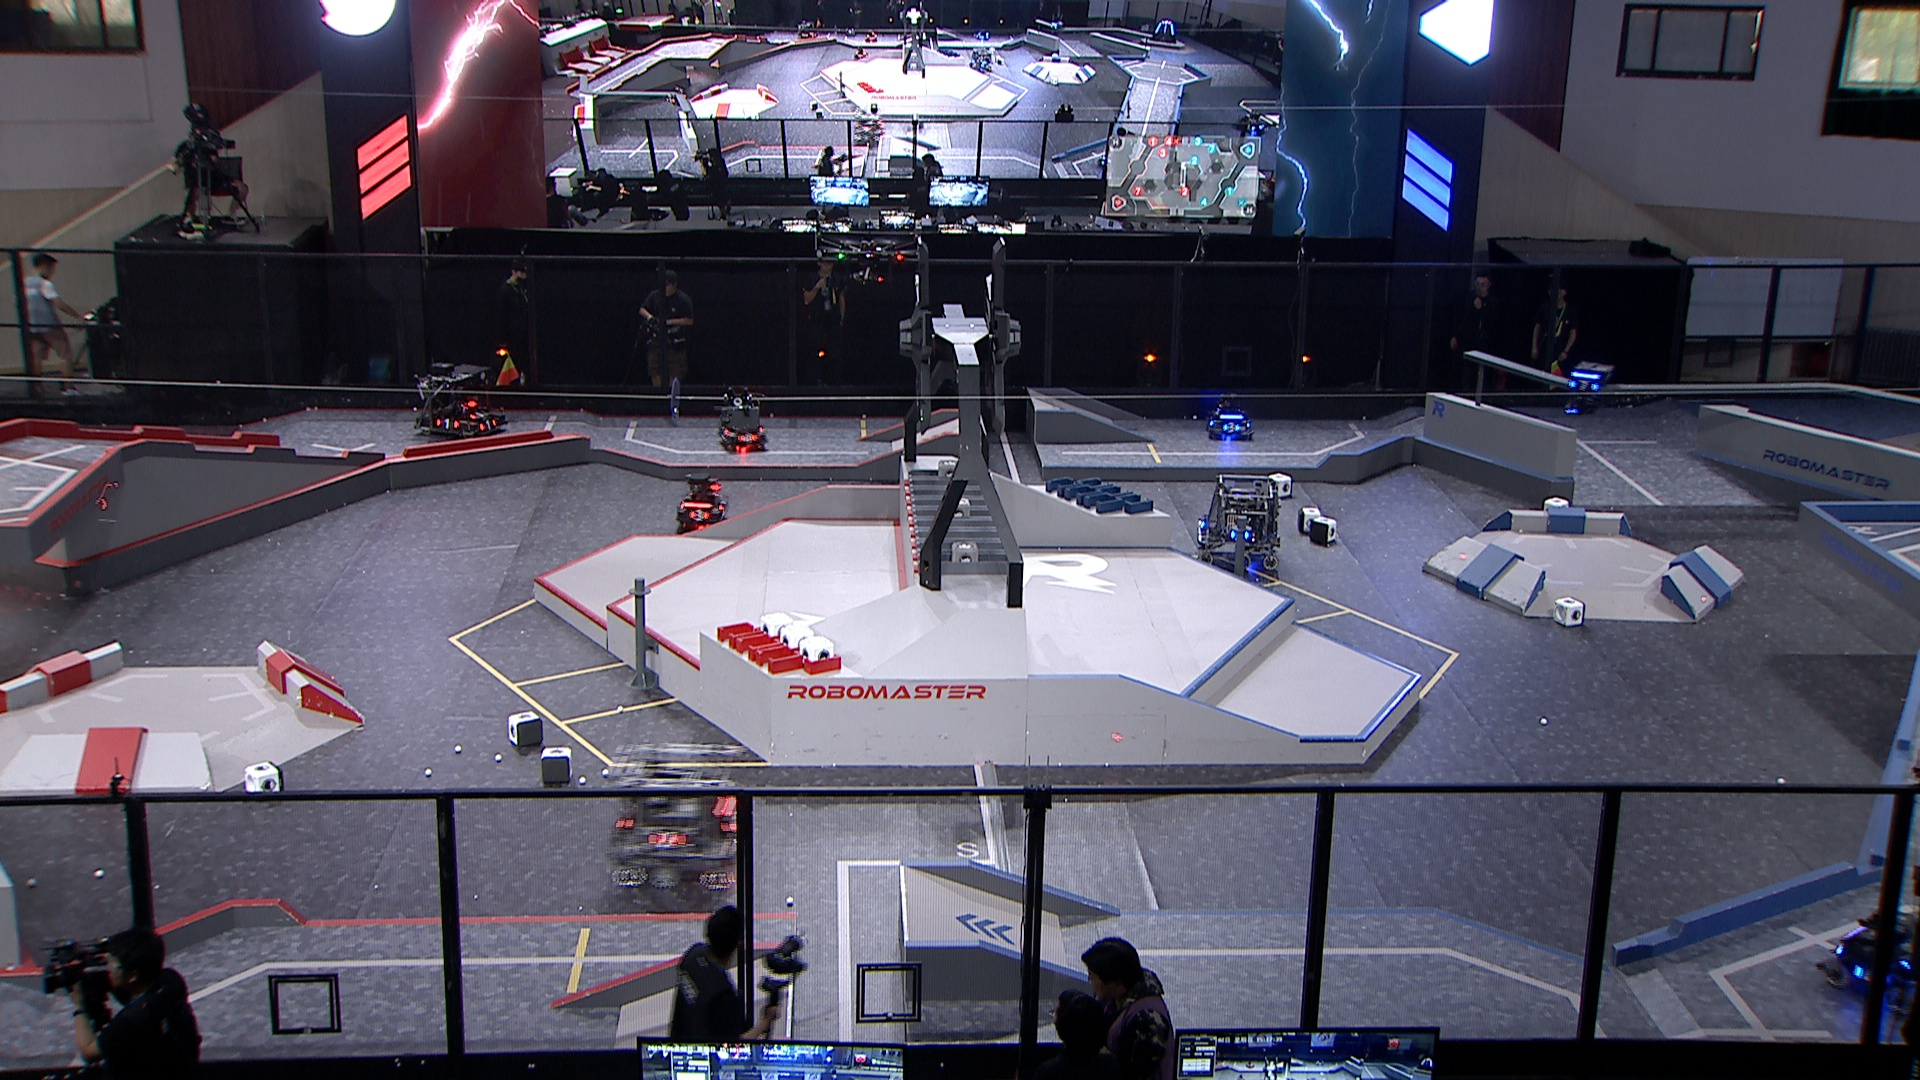armor: (644, 828, 686, 849), (433, 414, 460, 431), (1567, 378, 1600, 392), (476, 415, 500, 433), (686, 508, 711, 524), (467, 406, 491, 419), (735, 431, 757, 443), (1222, 422, 1244, 434)
car: (603, 740, 746, 889), (1817, 903, 1920, 1017), (1193, 469, 1282, 571), (410, 361, 509, 440), (674, 469, 733, 529), (1204, 398, 1254, 442), (717, 406, 767, 450)
ignore: (849, 112, 884, 142), (1237, 111, 1273, 138), (1149, 18, 1178, 45), (971, 46, 996, 76), (661, 86, 688, 107)
watcher: (1563, 363, 1617, 419)
